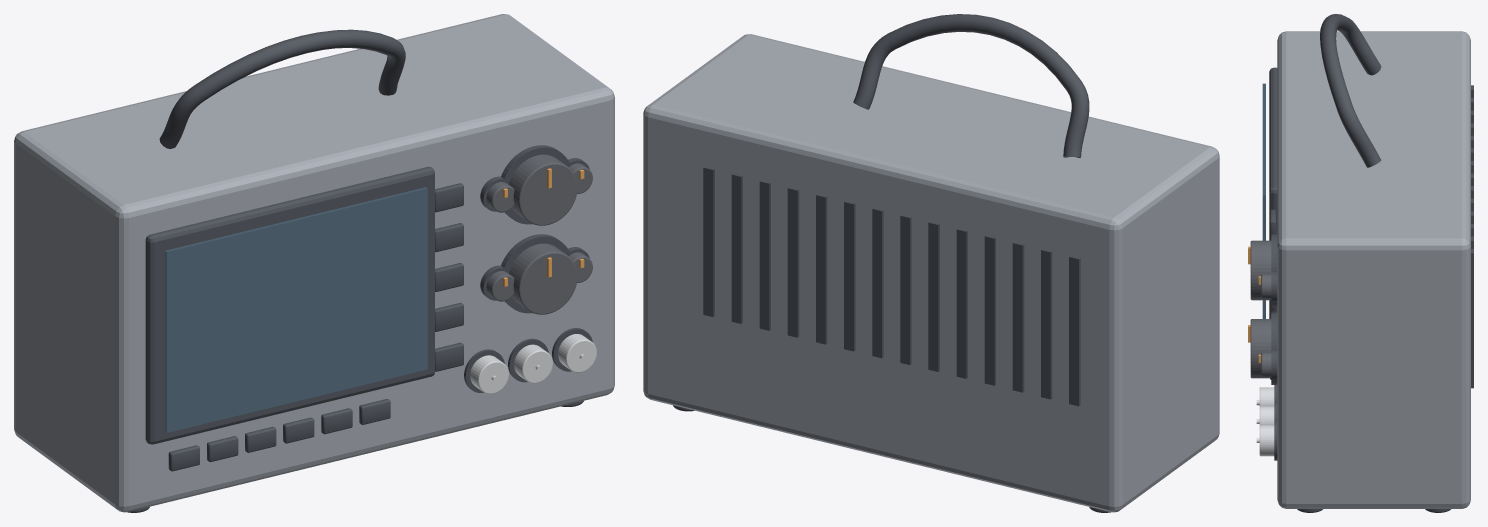
The model's file is scope.glb.
The picture shows the model from 3 angles, left to right: view 1: azimuth 30°, elevation 25°; view 2: azimuth 150°, elevation 25°; view 3: azimuth 270°, elevation 25°; orthographic projection. The views are drawn at different scales.
Visible parts, largest first — view 1: Oscilloscope; view 2: Oscilloscope; view 3: Oscilloscope.
Boxes of the visible parts, x1,y1,x2,y2 form: Oscilloscope: (14, 14, 614, 512); Oscilloscope: (643, 14, 1219, 512); Oscilloscope: (1248, 14, 1473, 512).
Bounding box in the file's own units: 0.34 × 0.2734 × 0.1517.
